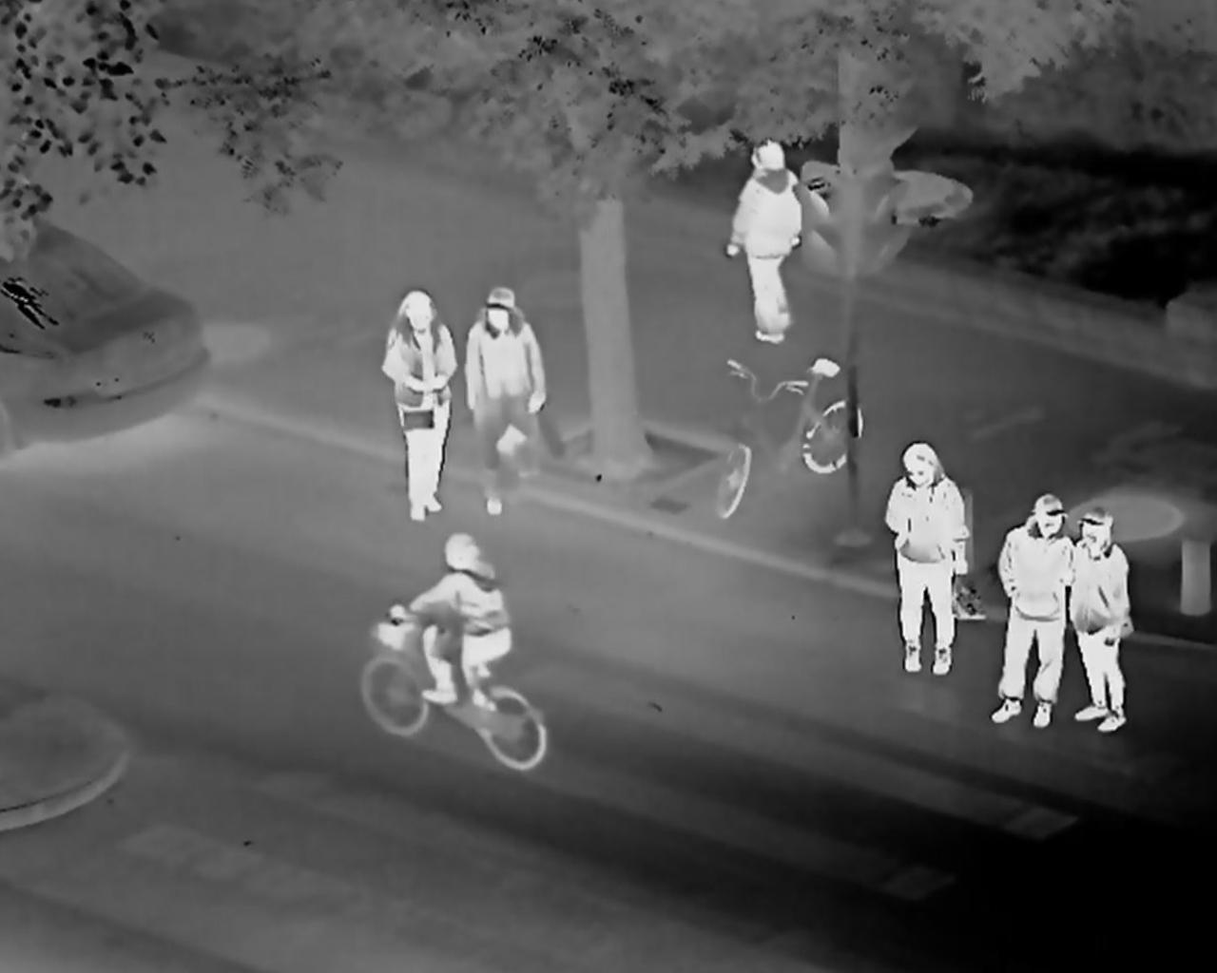person: (880, 441, 975, 677), (460, 283, 549, 521), (407, 532, 512, 733), (996, 493, 1070, 730), (383, 291, 452, 521), (729, 137, 806, 343), (1066, 508, 1132, 735)
